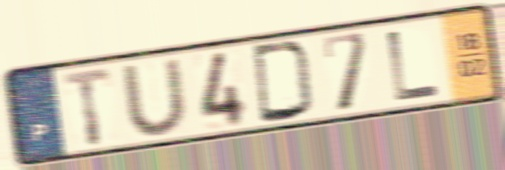4: (197, 48, 250, 129)
7: (321, 29, 369, 114)
D: (249, 39, 318, 126)
L: (384, 27, 443, 104)
T: (59, 64, 115, 148)
U: (118, 55, 193, 138)
